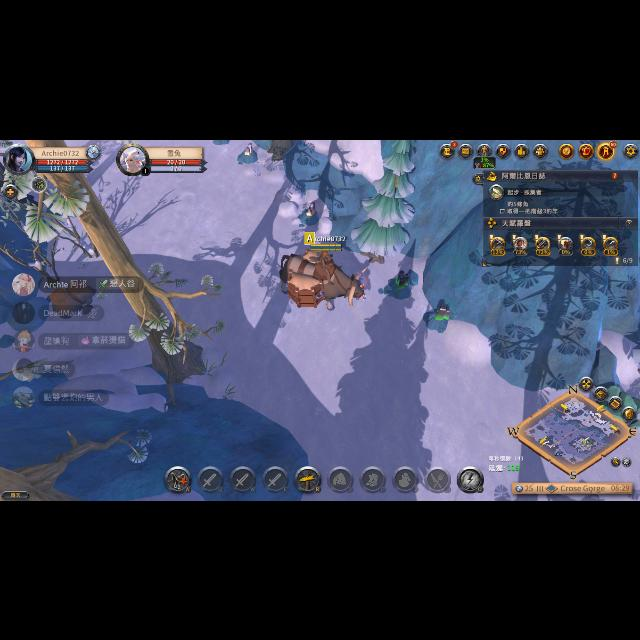mine_ii: (297, 197, 321, 221), (238, 144, 262, 160)
mine_iii: (424, 296, 456, 326), (385, 267, 415, 293)
